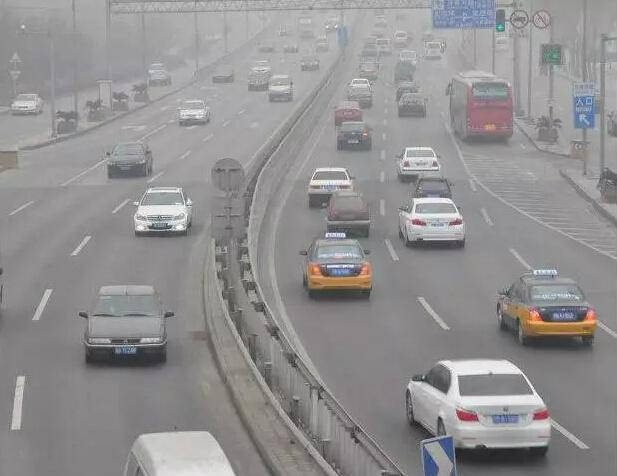bus: (445, 70, 514, 143), (297, 15, 314, 38)
car: (405, 358, 551, 458), (496, 269, 597, 347), (79, 285, 175, 362), (123, 426, 237, 476), (299, 233, 373, 300), (397, 198, 466, 248), (132, 187, 193, 236), (320, 191, 372, 237), (307, 168, 357, 209), (105, 142, 152, 178), (395, 146, 441, 182), (413, 176, 455, 207), (336, 121, 374, 150), (177, 99, 211, 126), (10, 93, 45, 115), (333, 101, 362, 127), (397, 93, 429, 116), (267, 75, 294, 102), (347, 87, 374, 108), (395, 81, 421, 102), (247, 69, 272, 90), (347, 79, 374, 98), (212, 65, 235, 83), (253, 60, 272, 81), (149, 70, 172, 86), (359, 62, 379, 80), (300, 55, 321, 72), (399, 50, 418, 68), (606, 108, 617, 138), (392, 30, 409, 49), (374, 38, 393, 55), (395, 67, 415, 83), (147, 61, 167, 77), (494, 37, 510, 54), (362, 44, 381, 58), (324, 16, 340, 31), (283, 39, 300, 53), (315, 37, 330, 52), (365, 34, 382, 47), (258, 39, 275, 52), (432, 37, 446, 52), (425, 49, 443, 60), (300, 27, 315, 40), (374, 16, 388, 27), (422, 33, 434, 44)
